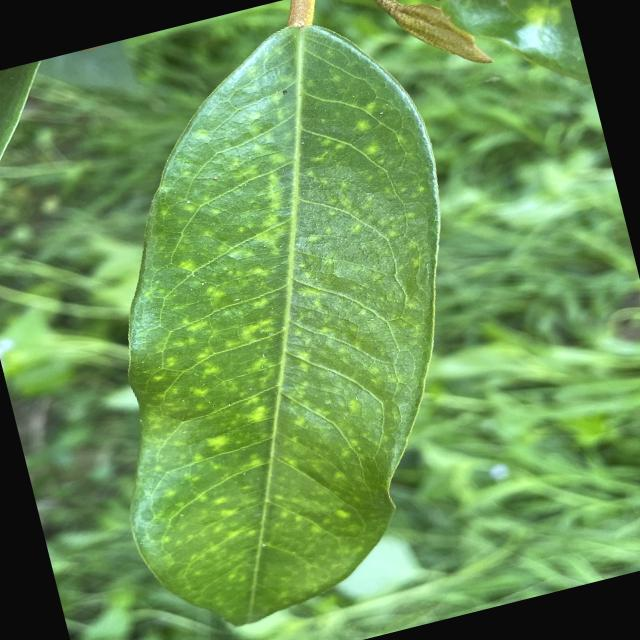Leaf Spot: (12, 0, 540, 639)
